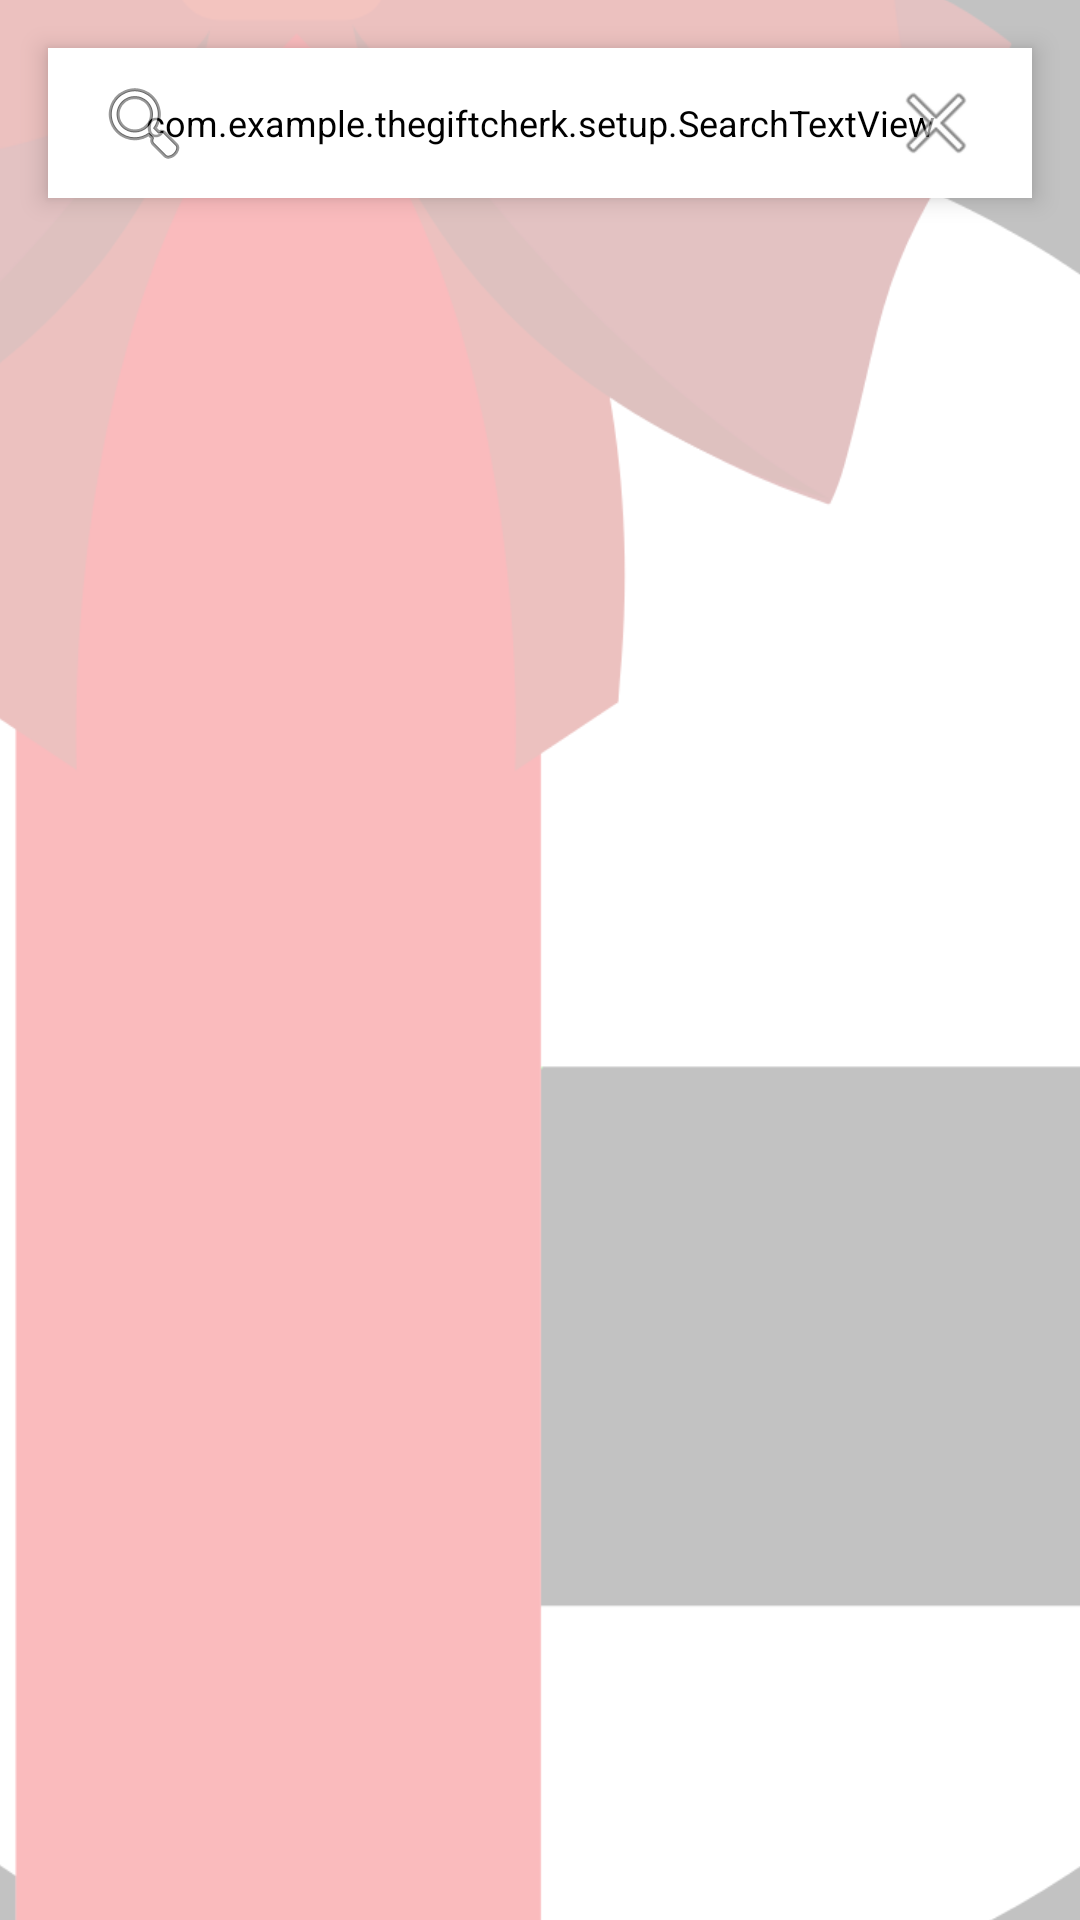

Icon bounding boxes for this 1080px x 1920px phone screenshot, format [x1,y1,x2,y2]:
close clear cancel: [890,93,966,153]
